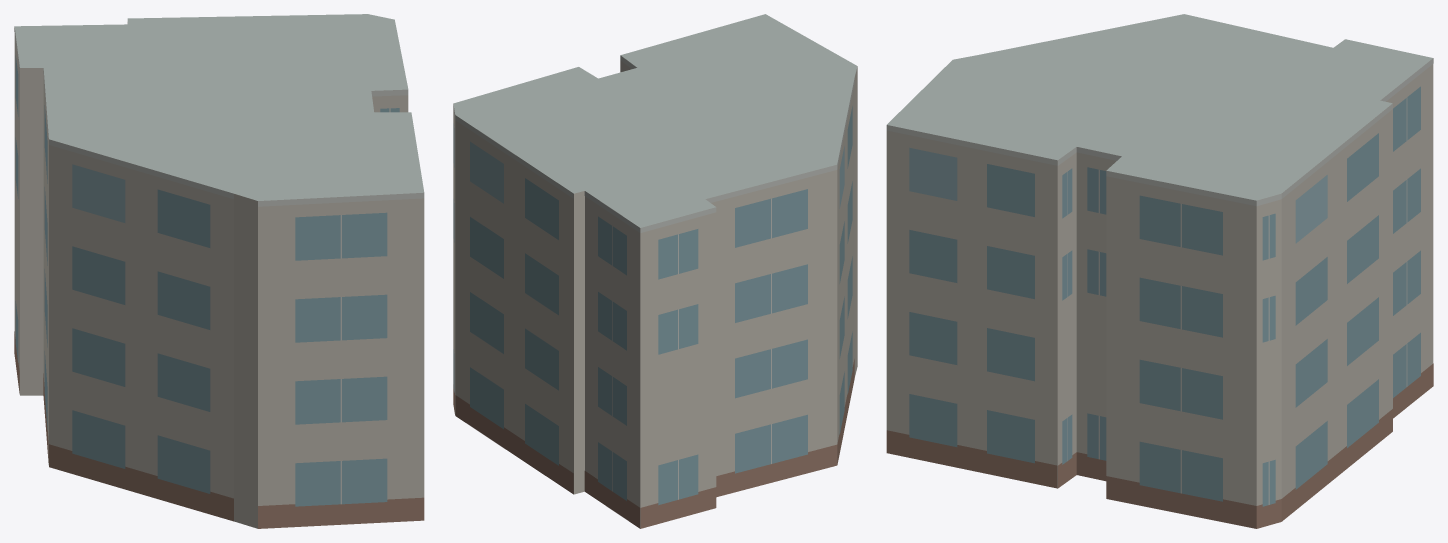
Rendered from survey-upis-32501451.glb.
3 views of the same model, side by side, from view 1: azimuth 30°, elevation 25°; view 2: azimuth 150°, elevation 25°; view 3: azimuth 270°, elevation 25° (orthographic). The views are drawn at different scales.
Visible parts, largest first — view 1: survey-upis-32501451.tmp; view 2: survey-upis-32501451.tmp; view 3: survey-upis-32501451.tmp.
Part boxes in pixels (<box>): survey-upis-32501451.tmp: <box>14,14,424,528</box>; survey-upis-32501451.tmp: <box>453,14,857,528</box>; survey-upis-32501451.tmp: <box>886,14,1433,528</box>.
Size of the model in its own units: 17.33 by 14.2 by 21.45.
